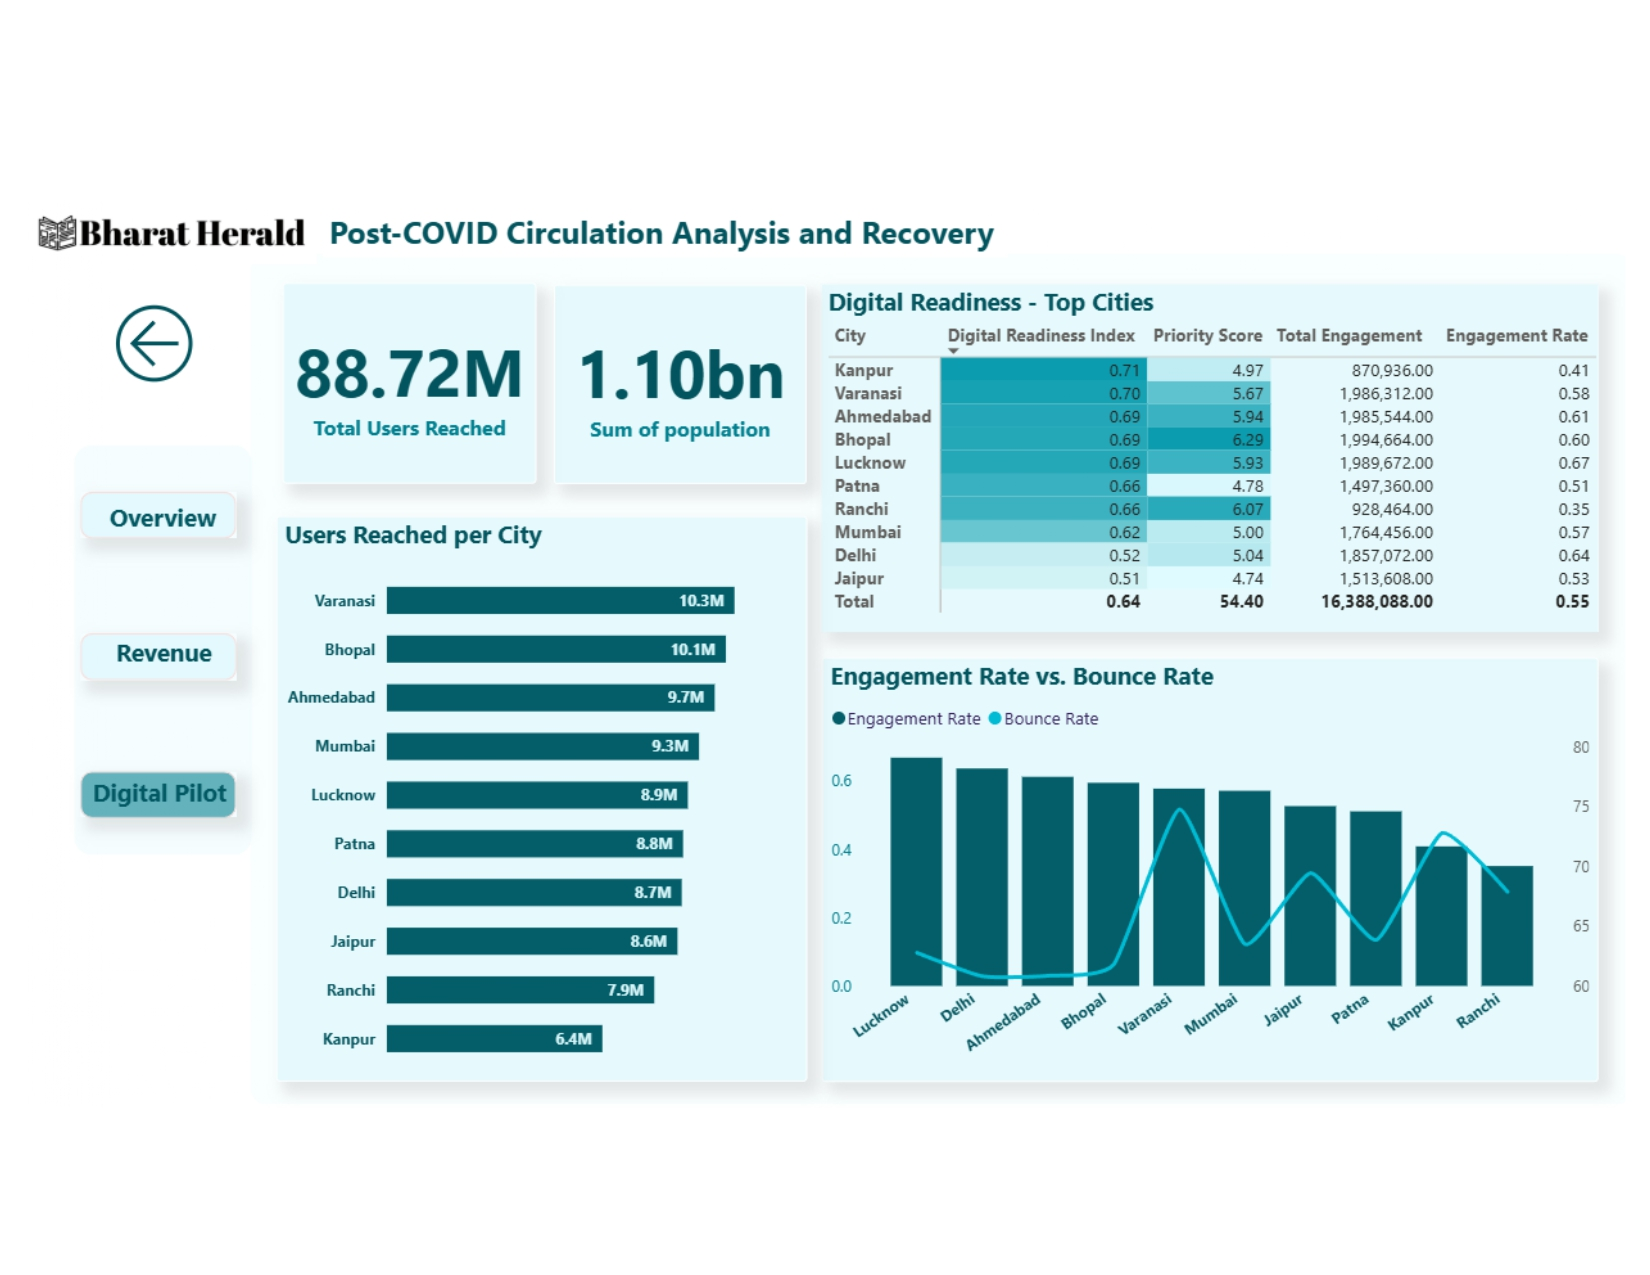

The dashboard page shown, as its layout file describes it:
{"tool":"powerbi","page":{"name":"Digital Pilot Metrics","canvas":[1280,720],"ordinal":2},"visuals":[{"type":"group","id":"g1","title":"Group 1","box":[41.2,50,1214.6,661.7],"z":0},{"type":"shape","box":[41.2,198.9,138.5,318.6],"z":0,"group":"g1"},{"type":"shape","box":[179.2,50,1076.7,661.7],"z":1000,"group":"g1"},{"type":"lineStackedColumnComboChart","title":"Engagement Rate vs. Bounce Rate","fields":{"Category":["bharat_herald vw_digital_readiness.city_name"],"Y":["Avg(bharat_herald vw_digital_readiness.engagement_rate)"],"Y2":["Avg(bharat_herald vw_digital_readiness.bounce_rate)1"]},"box":[623.3,363.3,605,330],"z":1000},{"type":"card","fields":{"Values":["Sum(bharat_herald vw_digital_readiness.total_users_reached)"]},"box":[204.3,72.7,197.4,155.8],"z":2000},{"type":"clusteredBarChart","title":"Users Reached per City","fields":{"Category":["bharat_herald vw_digital_readiness.city_name"],"Y":["Sum(bharat_herald vw_digital_readiness.total_users_reached)"]},"box":[198.3,253.3,413.3,440],"z":3000},{"type":"card","fields":{"Values":["Sum(bharat_herald vw_digital_readiness.population)"]},"box":[415,73.3,196.7,155],"z":4000},{"type":"pivotTable","title":"Digital Readiness - Top Cities","fields":{"Rows":["bharat_herald vw_digital_readiness.city_name"],"Values":["Avg(bharat_herald vw_digital_relaunch_prioritization.digital_readiness_index)","Sum(bharat_herald vw_digital_relaunch_prioritization.priority_score)","Sum(bharat_herald vw_digital_relaunch_prioritization.total_engagement)","Avg(bharat_herald vw_digital_readiness.engagement_rate)"]},"box":[623.3,73.3,605,270],"z":5000},{"type":"shape","box":[46.8,452,121.2,36.4],"z":6000},{"type":"shape","box":[46.8,235.5,121.2,36.4],"z":7000},{"type":"textbox","box":[55.4,237.2,110.8,36.4],"z":8000},{"type":"shape","box":[46.7,345,121.7,36.7],"z":9000},{"type":"actionButton","box":[62.3,239,105.6,31.2],"z":10000},{"type":"textbox","box":[63.8,346.2,90,35],"z":11000},{"type":"actionButton","box":[57.1,346.3,105.6,31.2],"z":12000},{"type":"textbox","box":[46.7,451.7,123.3,36.7],"z":13000},{"type":"image","box":[0,1.7,235,61.7],"z":14000},{"type":"actionButton","box":[61.7,456.7,95,25],"z":15000},{"type":"actionButton","box":[66.7,81.7,75,76.7],"z":16000},{"type":"textbox","box":[235,11.2,567.5,42.5],"z":17000}]}

Visuals, with their boxes on the page's 1280x720 design canvas (x1, y1, x2, y2). These are canvas units, not pixel positions in the 1650x1275 screenshot, which may show the page scaled, cropped or inside an application window:
"Group 1" group: left=41, top=50, right=1256, bottom=712
shape: left=41, top=199, right=180, bottom=518
shape: left=179, top=50, right=1256, bottom=712
"Engagement Rate vs. Bounce Rate" lineStackedColumnComboChart: left=623, top=363, right=1228, bottom=693
card - Sum(bharat_herald vw_digital_readiness.total_users_reached): left=204, top=73, right=402, bottom=228
"Users Reached per City" clusteredBarChart: left=198, top=253, right=612, bottom=693
card - Sum(bharat_herald vw_digital_readiness.population): left=415, top=73, right=612, bottom=228
"Digital Readiness - Top Cities" pivotTable: left=623, top=73, right=1228, bottom=343
shape: left=47, top=452, right=168, bottom=488
shape: left=47, top=236, right=168, bottom=272
textbox: left=55, top=237, right=166, bottom=274
shape: left=47, top=345, right=168, bottom=382
actionButton: left=62, top=239, right=168, bottom=270
textbox: left=64, top=346, right=154, bottom=381
actionButton: left=57, top=346, right=163, bottom=378
textbox: left=47, top=452, right=170, bottom=488
image: left=0, top=2, right=235, bottom=63
actionButton: left=62, top=457, right=157, bottom=482
actionButton: left=67, top=82, right=142, bottom=158
textbox: left=235, top=11, right=802, bottom=54
